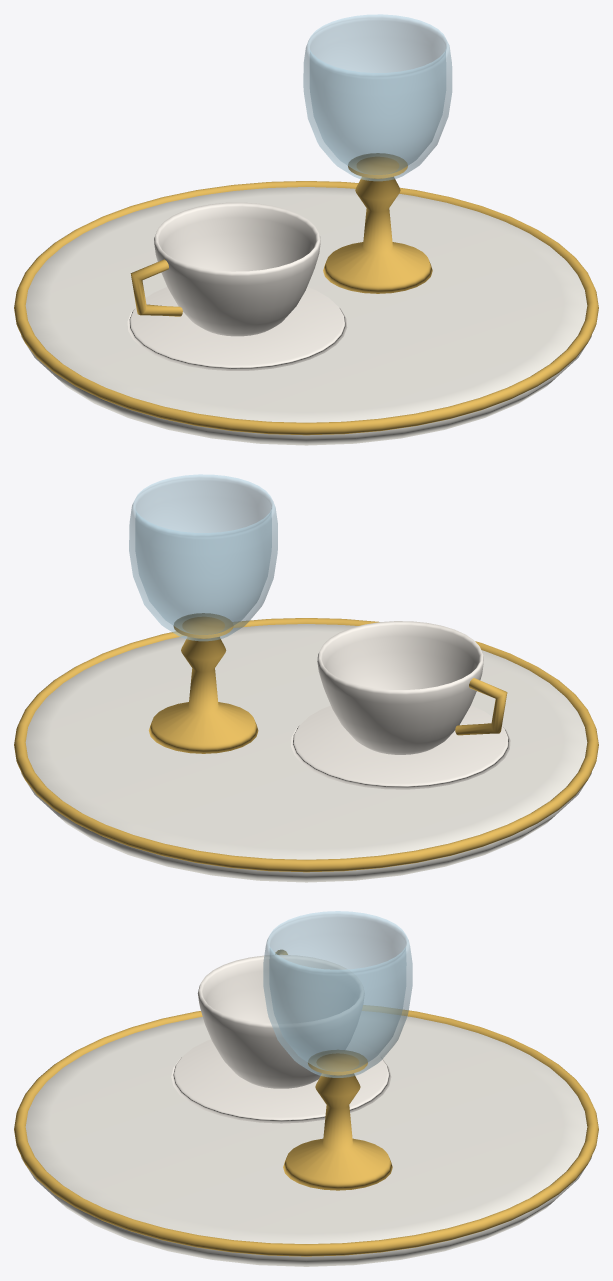
Rendered from webtoon-hollow-porcelain-prism-tea-goblet-v17.glb.
3 views of the same model, one above another, from view 1: azimuth 30°, elevation 25°; view 2: azimuth 150°, elevation 25°; view 3: azimuth 270°, elevation 25° (orthographic).
Parts seen in each view (by area): view 1: SalonMarbleTeaTray, SalonTeaGildedHardware, HollowPrismGobletBowl, HollowPorcelainTeacupShell, PorcelainSaucerBase; view 2: SalonMarbleTeaTray, SalonTeaGildedHardware, HollowPrismGobletBowl, HollowPorcelainTeacupShell, PorcelainSaucerBase; view 3: SalonMarbleTeaTray, HollowPrismGobletBowl, SalonTeaGildedHardware, HollowPorcelainTeacupShell, PorcelainSaucerBase.
Part boxes in pixels (x1,y1,x2,y2): SalonMarbleTeaTray: (21,187,591,445); SalonTeaGildedHardware: (14,153,598,435); HollowPrismGobletBowl: (303,14,452,181); HollowPorcelainTeacupShell: (154,202,320,336); PorcelainSaucerBase: (127,287,347,370); SalonMarbleTeaTray: (21,624,591,882); SalonTeaGildedHardware: (14,613,598,872); HollowPrismGobletBowl: (129,474,277,641); HollowPorcelainTeacupShell: (317,621,483,754); PorcelainSaucerBase: (291,705,510,789); SalonMarbleTeaTray: (21,1011,591,1266); HollowPrismGobletBowl: (263,911,412,1077); SalonTeaGildedHardware: (14,949,598,1256); HollowPorcelainTeacupShell: (197,954,364,1088); PorcelainSaucerBase: (171,1039,391,1123).
Size of the model in its own units: 0.93 by 0.4421 by 0.93.
